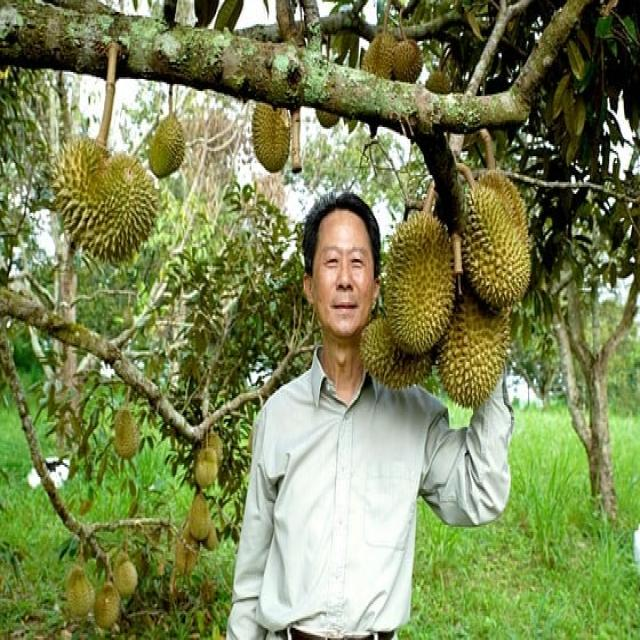Sau Rieng: (50, 129, 165, 270), (461, 160, 554, 310), (388, 206, 459, 351), (445, 292, 512, 400), (361, 319, 434, 386), (254, 102, 292, 171), (149, 113, 184, 177), (170, 514, 204, 577), (65, 566, 95, 618), (111, 405, 138, 458), (93, 580, 120, 630), (392, 38, 422, 79), (113, 554, 138, 596), (426, 69, 452, 94), (200, 511, 216, 546), (204, 443, 220, 475), (318, 106, 343, 126)
